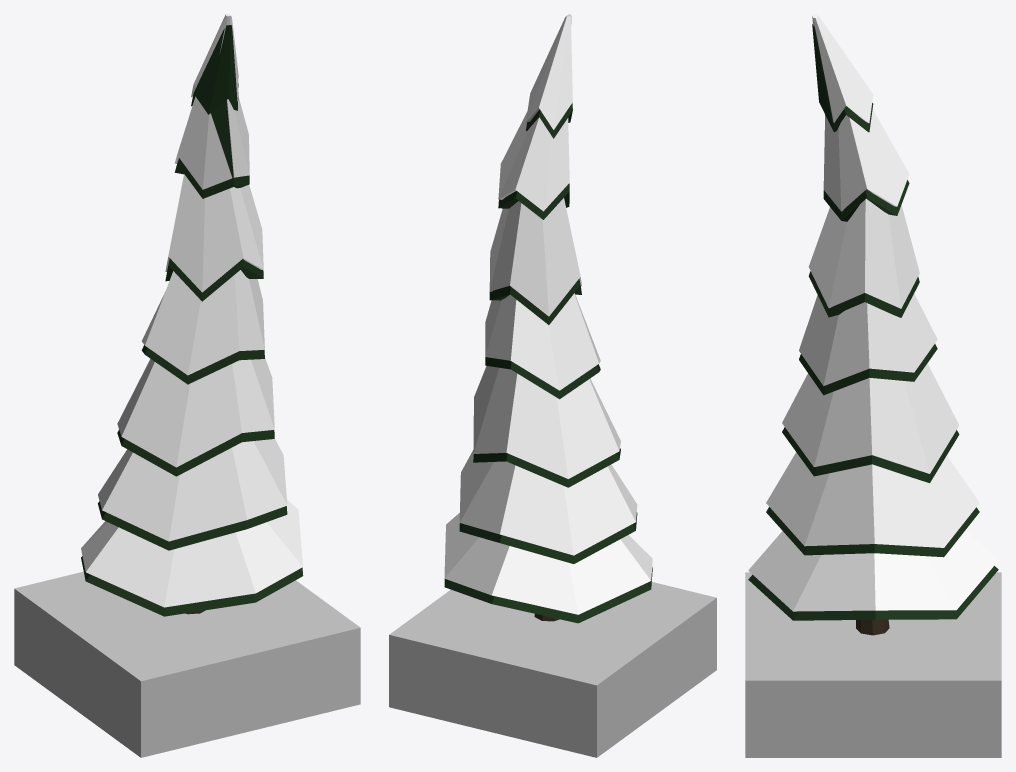
File: Tile_Tree_7.obj
3 renders of one model, left to right at view 1: azimuth 30°, elevation 25°; view 2: azimuth 150°, elevation 25°; view 3: azimuth 270°, elevation 25°, orthographic. The views are drawn at different scales.
Parts seen in each view (by area): view 1: Cylinder.000_Cylinder.007, Cube, Cylinder.001_Cylinder.006; view 2: Cylinder.000_Cylinder.007, Cube, Cylinder.001_Cylinder.006; view 3: Cylinder.000_Cylinder.007, Cube, Cylinder.001_Cylinder.006, Cylinder_Cylinder.008.
Part boxes in pixels (box(x1,y1,x2,y2)): Cylinder.000_Cylinder.007: box(81, 14, 303, 607); Cube: box(14, 571, 360, 757); Cylinder.001_Cylinder.006: box(81, 25, 303, 616); Cylinder.000_Cylinder.007: box(444, 14, 652, 614); Cube: box(389, 582, 716, 757); Cylinder.001_Cylinder.006: box(444, 104, 652, 623); Cylinder.000_Cylinder.007: box(748, 14, 998, 611); Cube: box(745, 572, 1001, 757); Cylinder.001_Cylinder.006: box(748, 24, 998, 620); Cylinder_Cylinder.008: box(856, 619, 889, 635).
Size of the model in its own units: 3.03 by 8.98 by 3.
